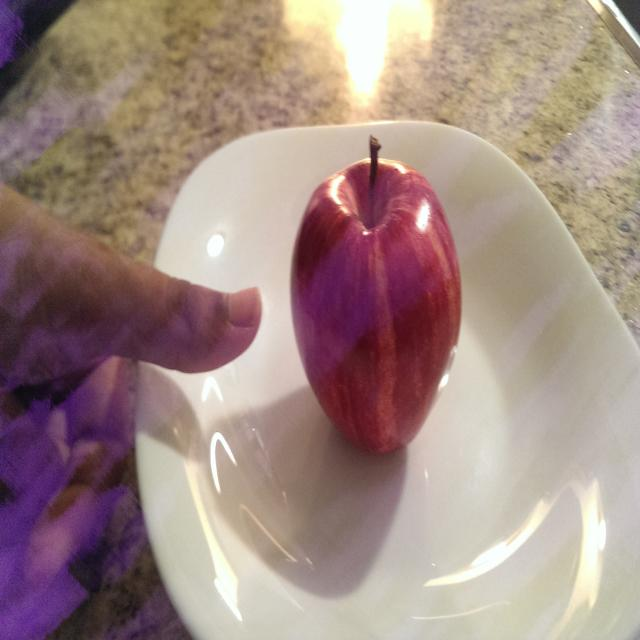apple: (285, 126, 466, 466)
